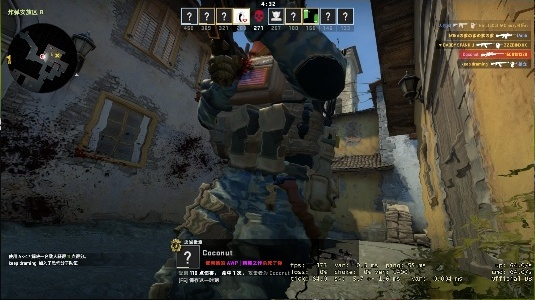body: (169, 6, 333, 300)
